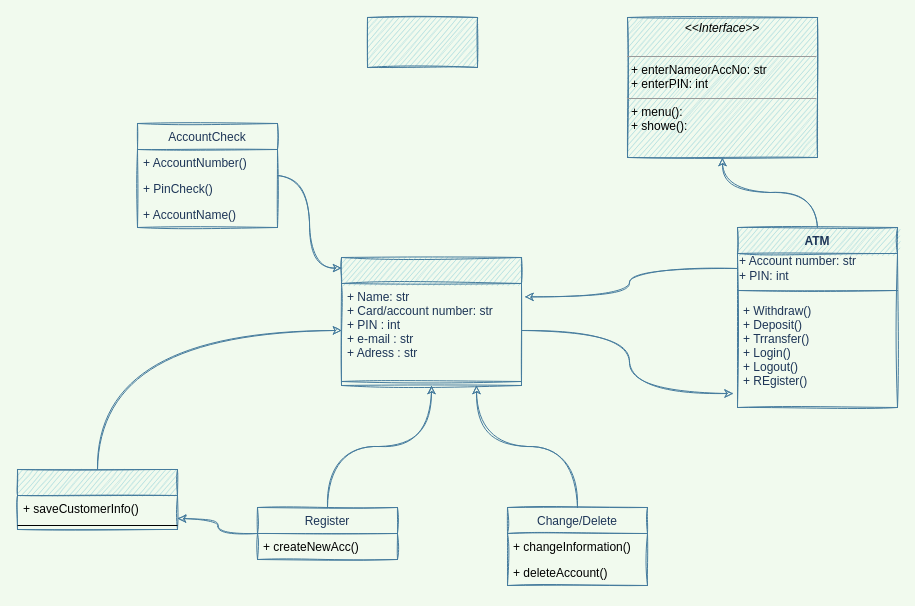
The diagram is 915 pixels wide and 606 high, and some of its shapes have lost their labels. Each missing label, with the box of its shape:
ATM SYSTEM: (366, 16, 478, 68)
Customer: (340, 256, 522, 386)
Save information: (16, 468, 178, 530)
